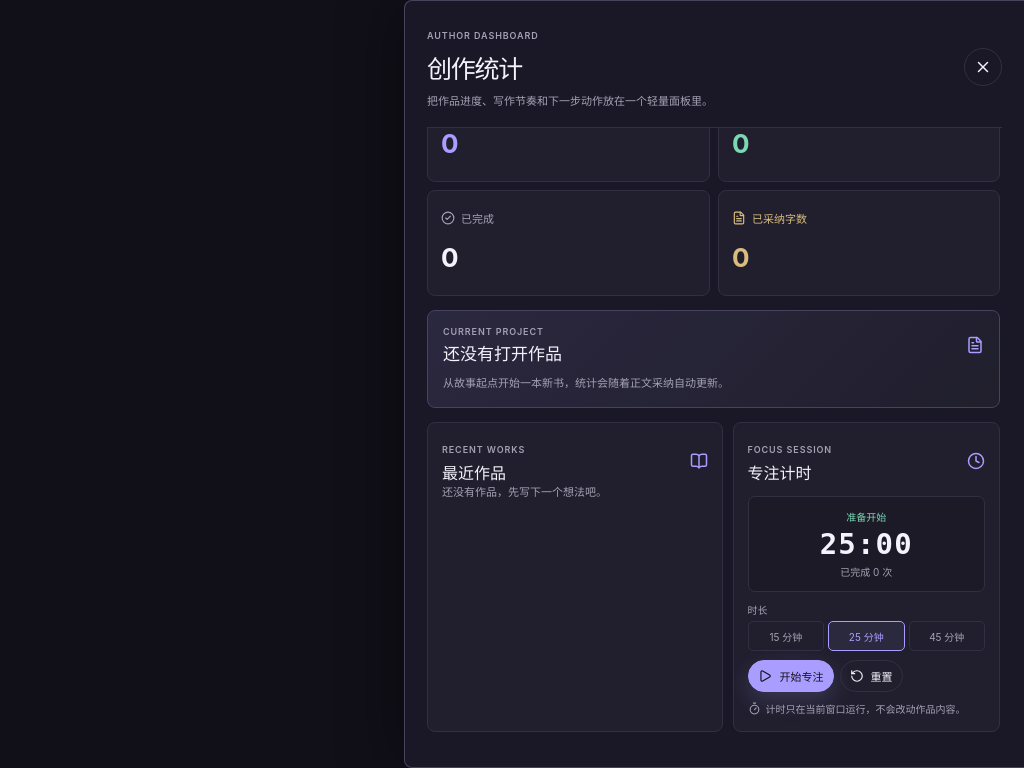
Test: CreatorDashboardPanel › provides a local focus timer without changing story data
(page scrolled)
Expected: the heading "专注计时" is shown, 748,463 -> 812,483
Expected: the text "25:00" is shown, 820,527 -> 913,561
Click the button "开始专注" at (791, 676), box 748,660 -> 834,692
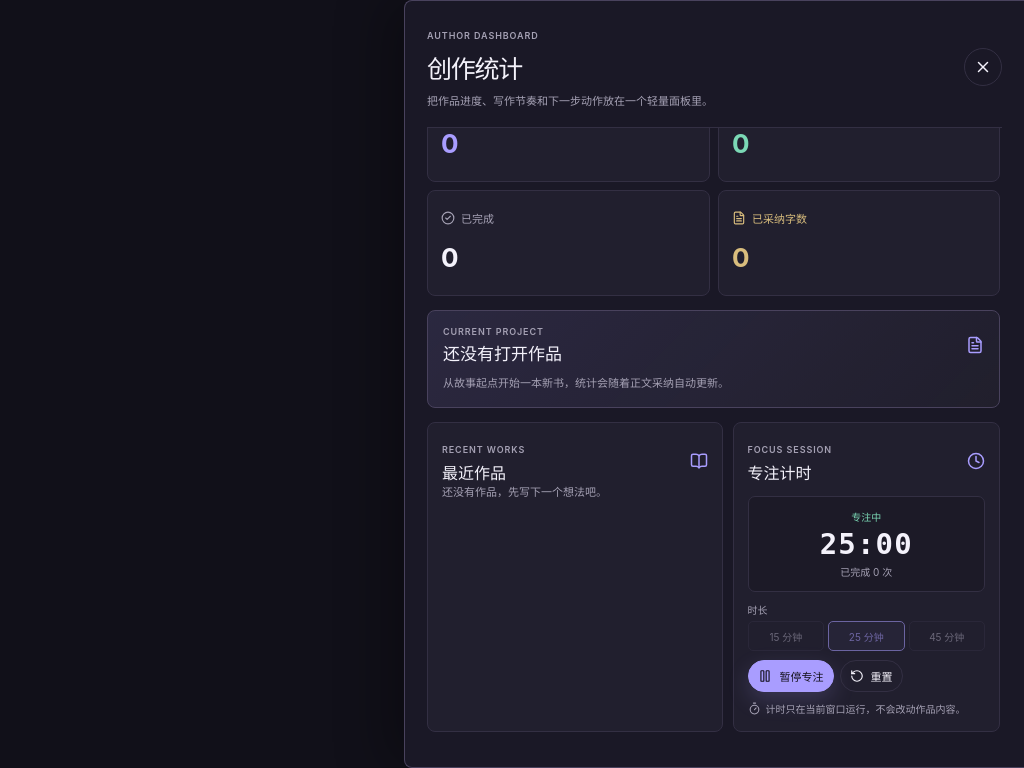
Expected: the button "暂停专注" is shown
Click the button "暂停专注" at (791, 676), box 748,660 -> 834,692
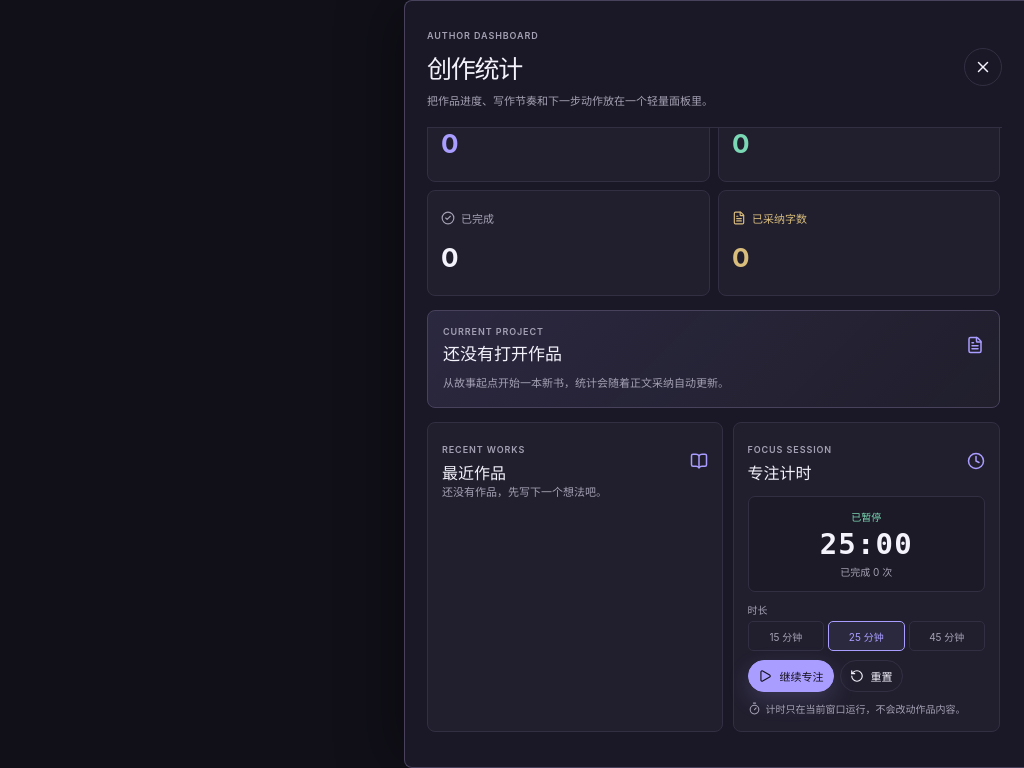
Expected: the button "继续专注" is shown, 748,660 -> 834,692
